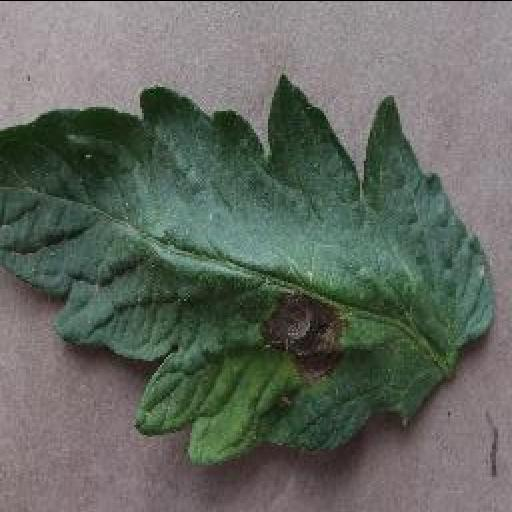disease_tomato: (2, 66, 502, 468)
